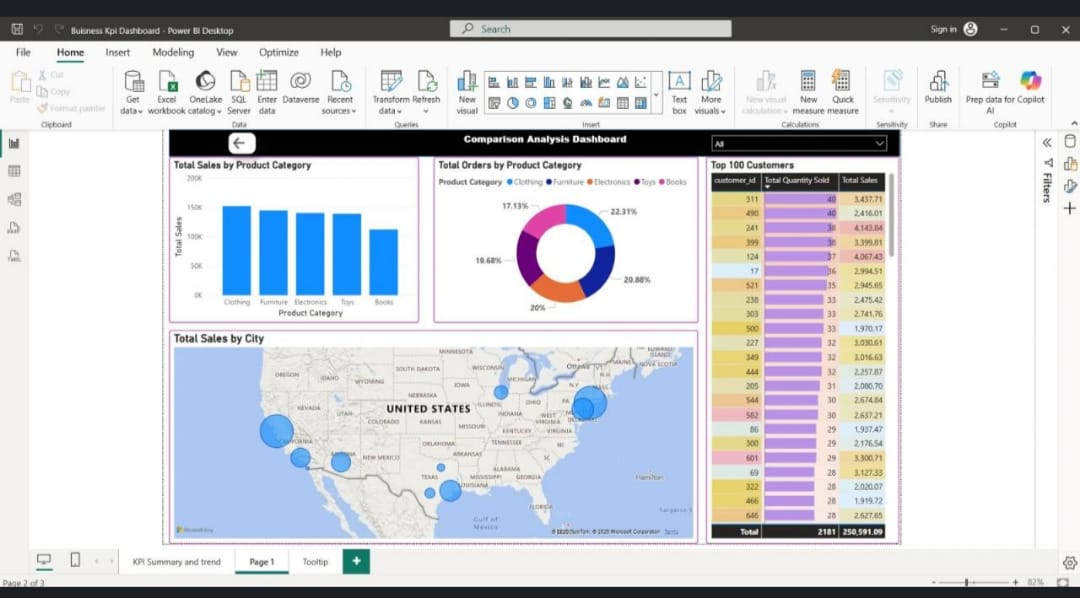

The dashboard page shown, as its layout file describes it:
{"tool":"powerbi","page":{"name":"Page 1","canvas":[1280,720],"ordinal":1},"visuals":[{"type":"group","id":"g1","title":"Group 2","box":[10,0,1270,47.5],"z":0},{"type":"shape","box":[10,0,1270,47.5],"z":0,"group":"g1"},{"type":"clusteredColumnChart","fields":{"Category":["Sales data 2024.product_category"],"Y":["Sum(Sales data 2024.sales)"]},"box":[9.8,47.7,434.1,288.6],"z":1000},{"type":"donutChart","fields":{"Category":["Sales data 2024.product_category"],"Y":["CountNonNull(Sales data 2024.order_id)"]},"box":[469.6,47.7,459.8,288.6],"z":2000},{"type":"tableEx","title":"Top 100 Customers","fields":{"Values":["Sales data 2024.customer_id","Sum(Sales data 2024.quantity_sold)","Sum(Sales data 2024.sales)"]},"box":[942.8,47.7,336.3,672.6],"z":3000},{"type":"map","title":"Total Sales by City","fields":{"Category":["Sales data 2024.city"],"Size":["Sum(Sales data 2024.sales)"]},"box":[9.8,348.5,919.6,371.7],"z":4000},{"type":"slicer","fields":{"Values":["Sales data 2024.state"]},"box":[942.9,0,324.3,38.6],"z":5000},{"type":"actionButton","box":[112.5,5,48.8,38.8],"z":5001},{"type":"textbox","box":[86.6,0,1159.7,47.5],"z":12000,"group":"g1"}]}

Visuals, with their boxes on the page's 1280x720 design canvas (x1, y1, x2, y2). These are canvas units, not pixel positions in the 1080x598 screenshot, which may show the page scaled, cropped or inside an application window:
"Group 2" group: bbox(10, 0, 1280, 48)
shape: bbox(10, 0, 1280, 48)
clusteredColumnChart - Sales data 2024.product_category x Sum(Sales data 2024.sales): bbox(10, 48, 444, 336)
donutChart - Sales data 2024.product_category x CountNonNull(Sales data 2024.order_id): bbox(470, 48, 929, 336)
"Top 100 Customers" tableEx: bbox(943, 48, 1279, 720)
"Total Sales by City" map: bbox(10, 348, 929, 720)
slicer - Sales data 2024.state: bbox(943, 0, 1267, 39)
actionButton: bbox(112, 5, 161, 44)
textbox: bbox(87, 0, 1246, 48)
